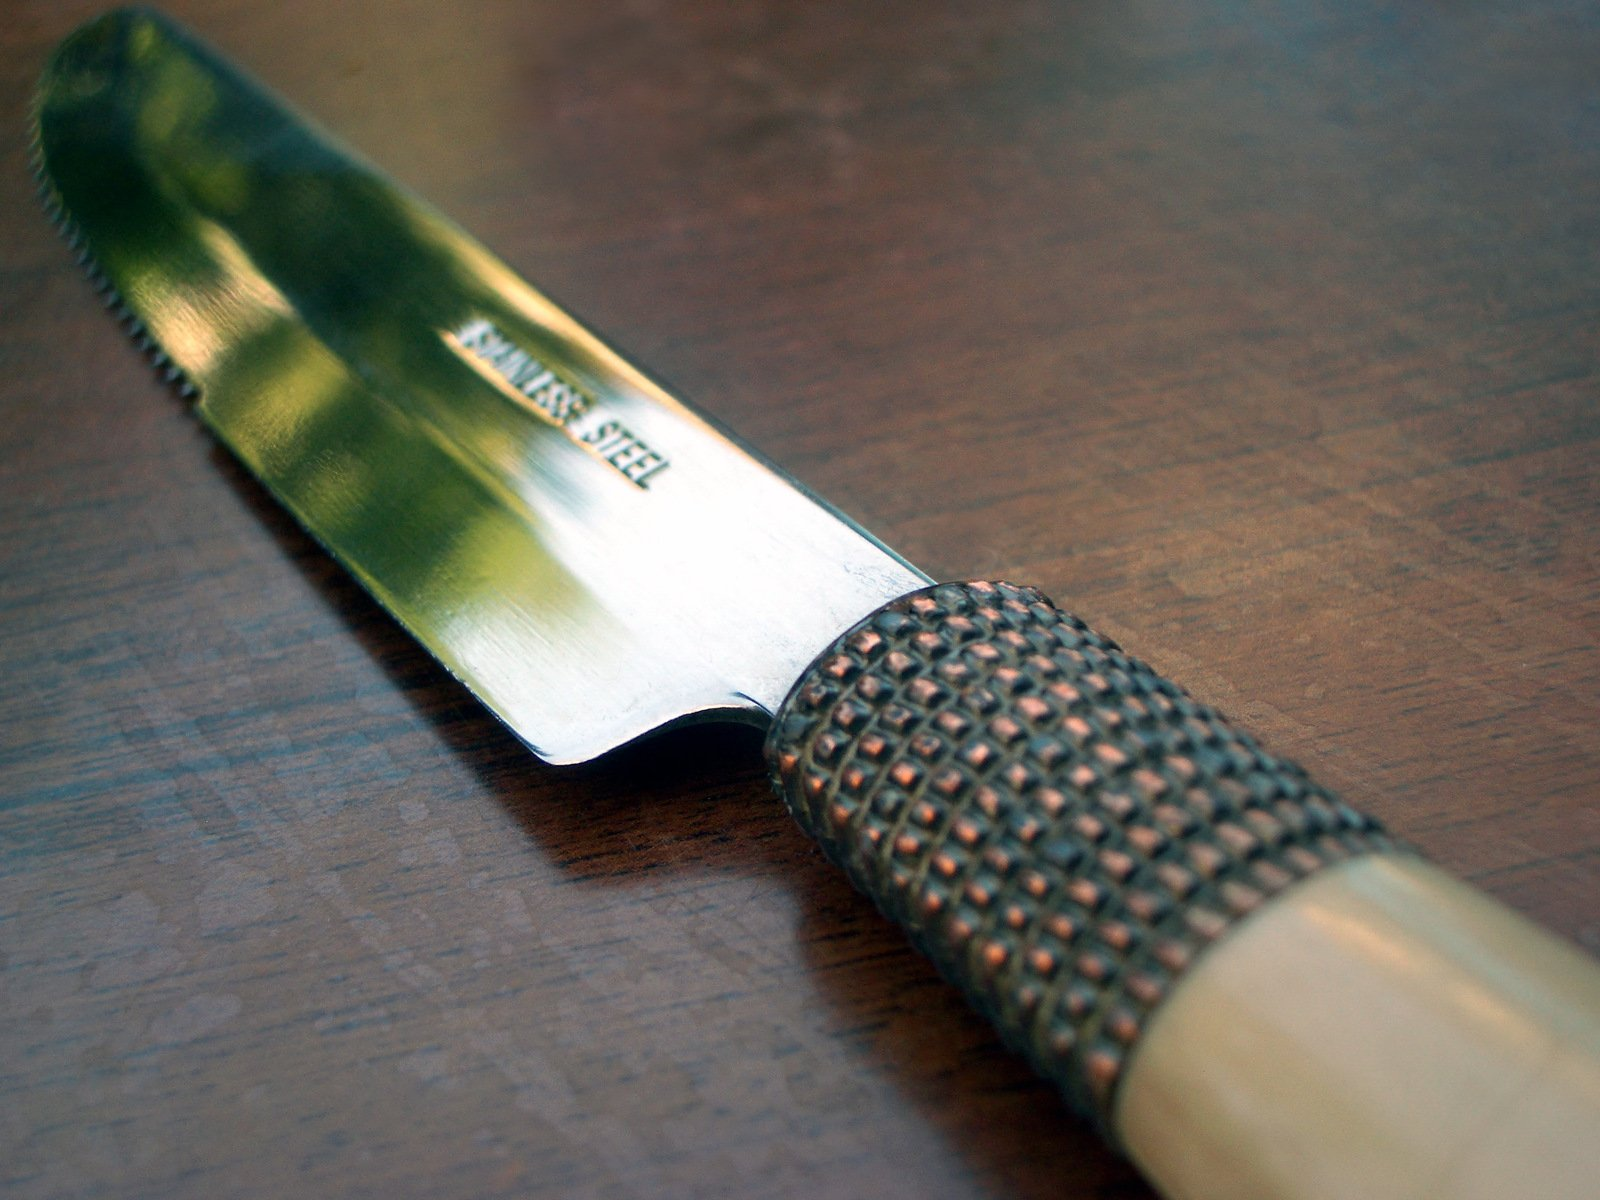knife: (30, 3, 1600, 1200)
